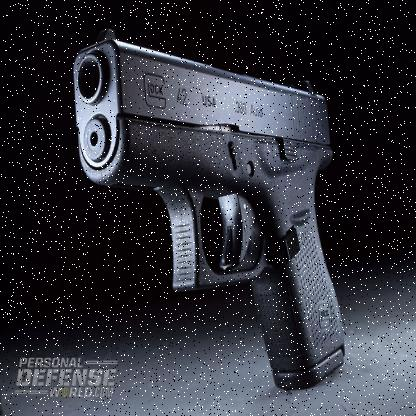pistol: (68, 26, 346, 388)
